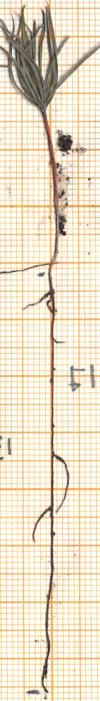flower: (3, 1, 100, 112)
root: (22, 261, 71, 696)
stem: (39, 117, 63, 256)
